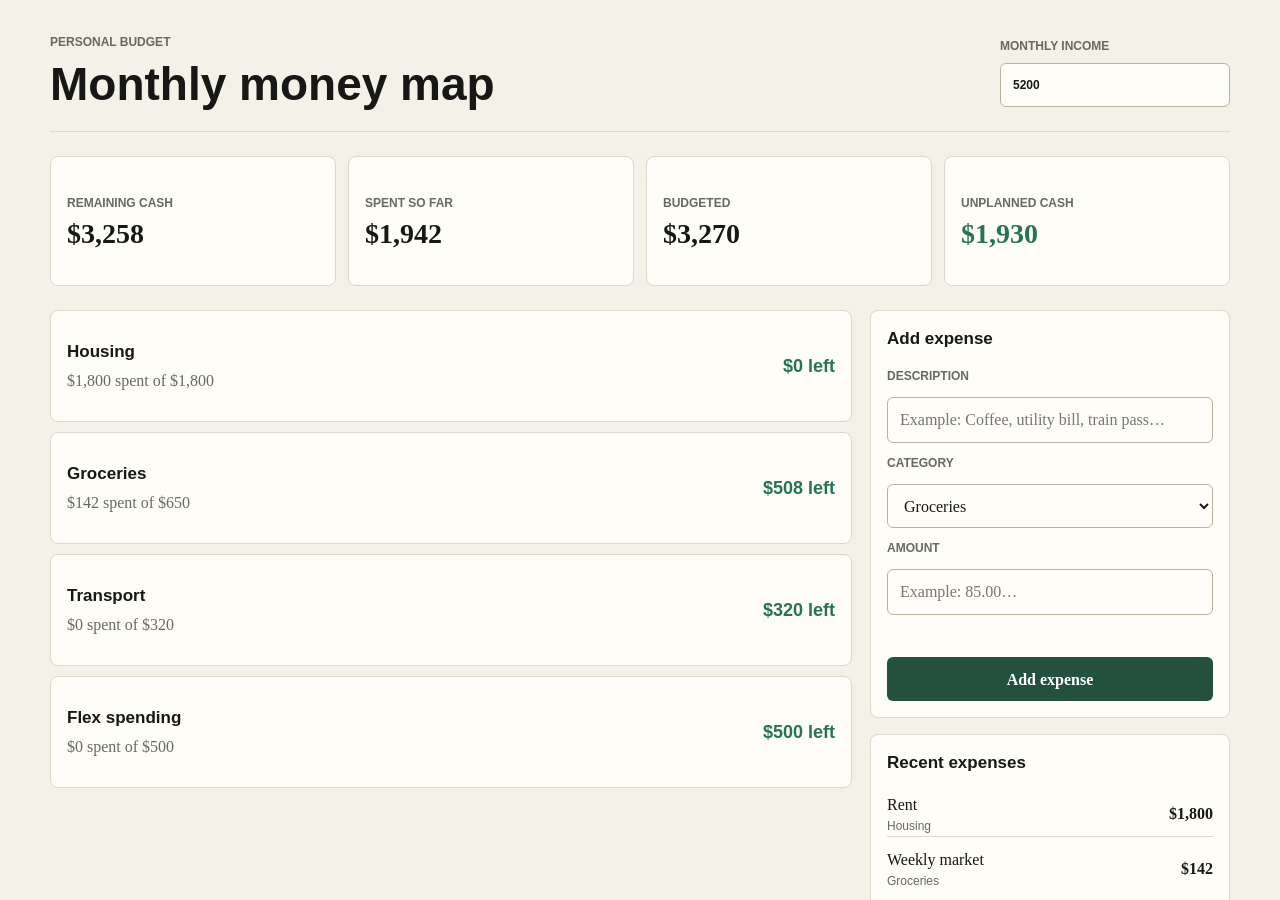
Scenario: budget tracker › adds an expense and updates remaining cash
Expected: the text named "Remaining cash $3,258" is shown, [67,218,144,249]
Type "Pharmacy run" into the field labelled "Description".
click(1050, 420); type("Pharmacy run")  # box [887,397,1213,443]
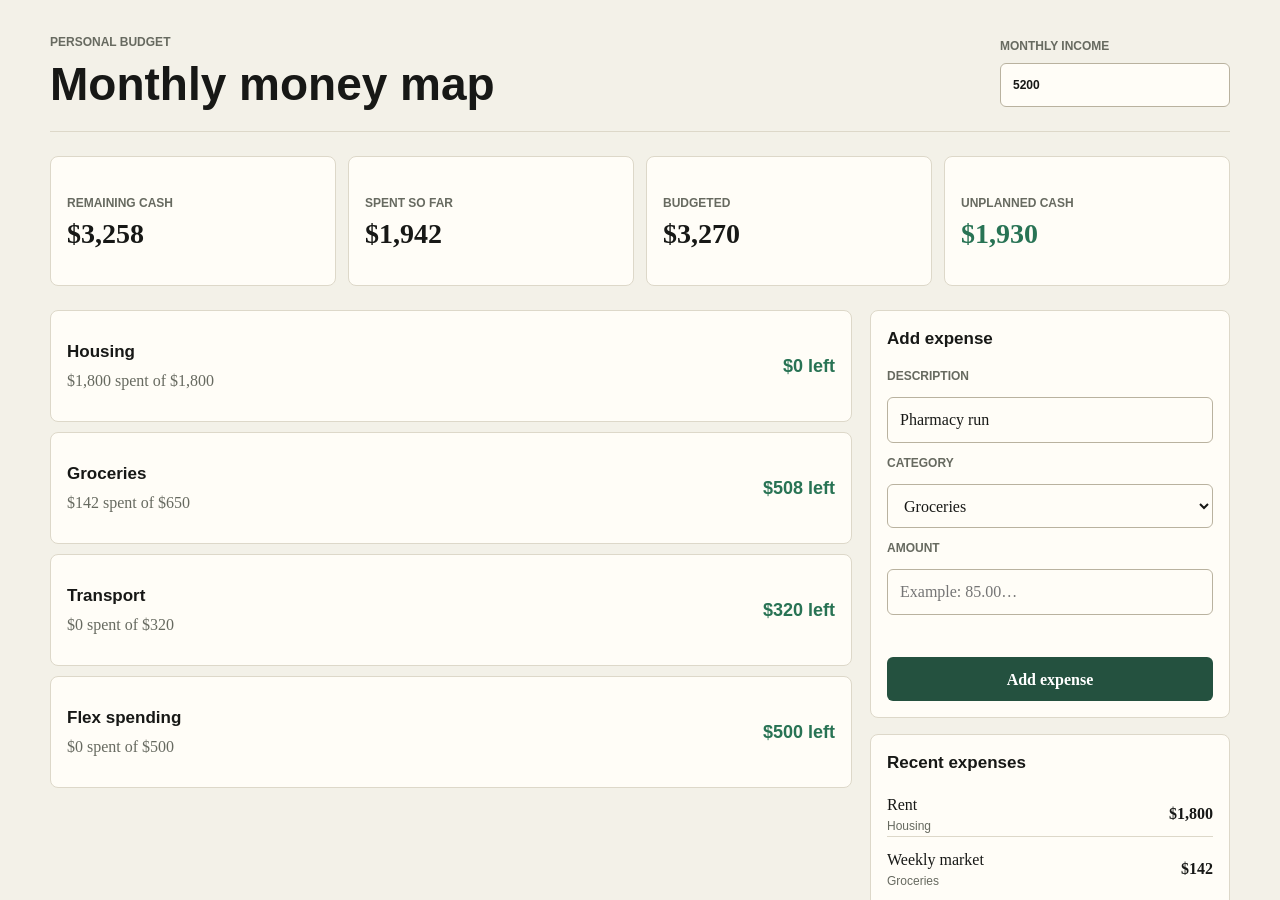
Select "Groceries" in the dropdown labelled "Category" at (1050, 506), box [887,484,1213,528]
Type "58" into the number field labelled "Amount".
click(1050, 592); type("58")  # box [887,569,1213,615]
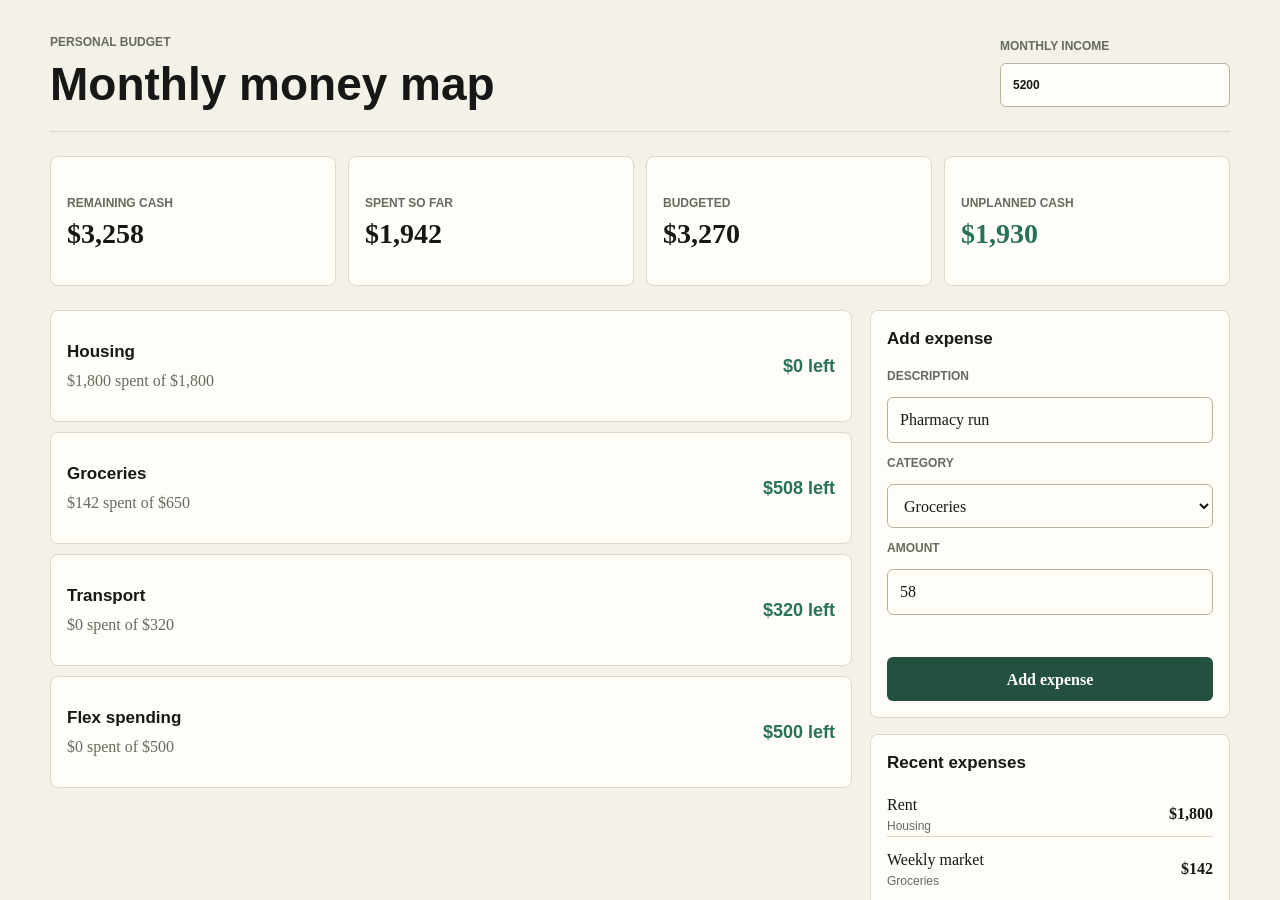
Click the button "Add expense".
click(1050, 679)  # box [887,657,1213,701]
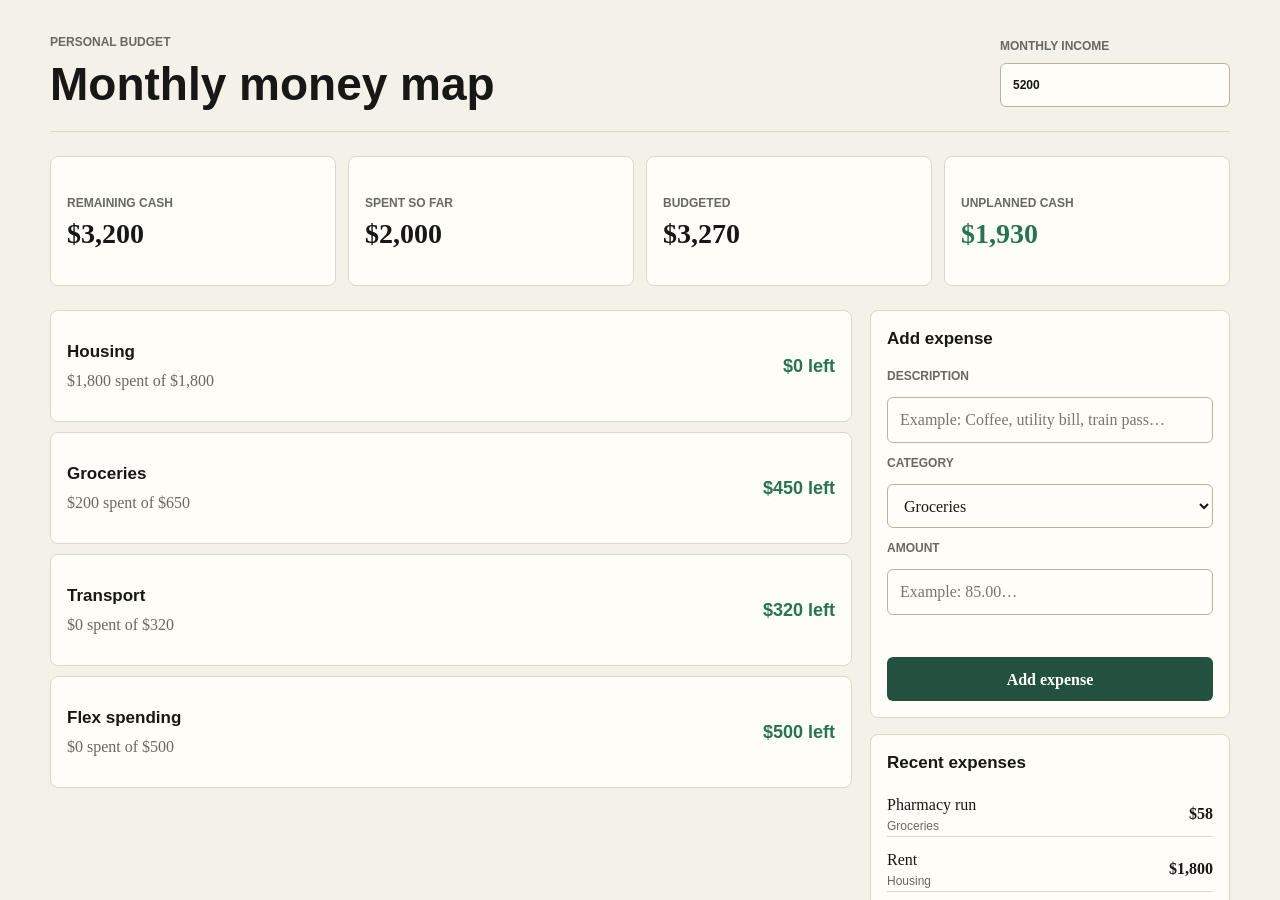
Expected: the text "Pharmacy run" is shown, [887,796,976,813]
Expected: the text named "Remaining cash $3,200" is shown, [67,218,144,249]
